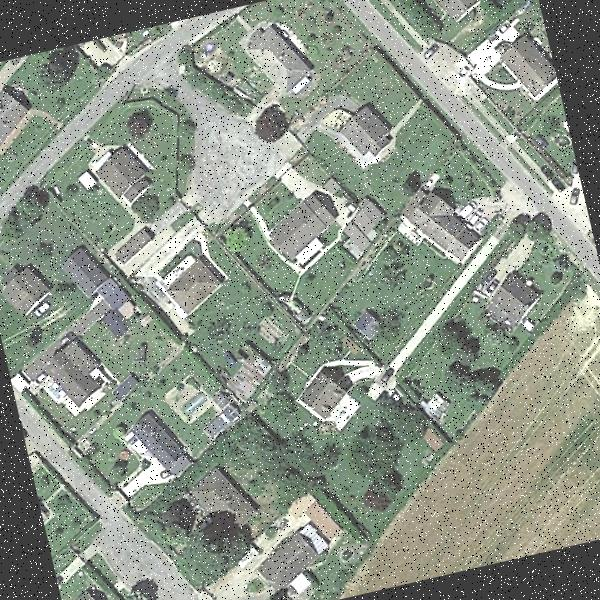Buildings: (251, 505, 346, 600), (272, 187, 381, 268), (394, 176, 486, 266), (234, 18, 314, 102), (84, 140, 156, 205), (126, 411, 190, 483), (149, 252, 222, 314), (39, 347, 106, 406), (337, 102, 395, 160), (481, 272, 537, 330), (0, 81, 36, 170), (294, 363, 350, 417), (506, 38, 553, 92), (191, 475, 236, 514), (0, 264, 37, 306), (425, 0, 480, 21), (66, 588, 109, 600)
